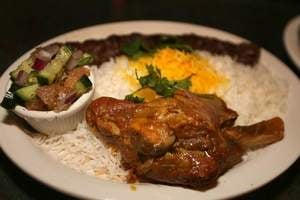sandwich: (1, 29, 299, 194)
